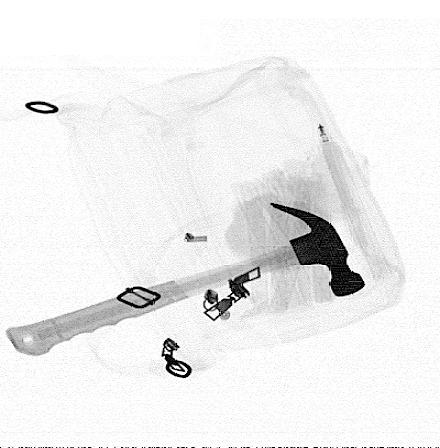Hammer: (5, 202, 366, 356)
